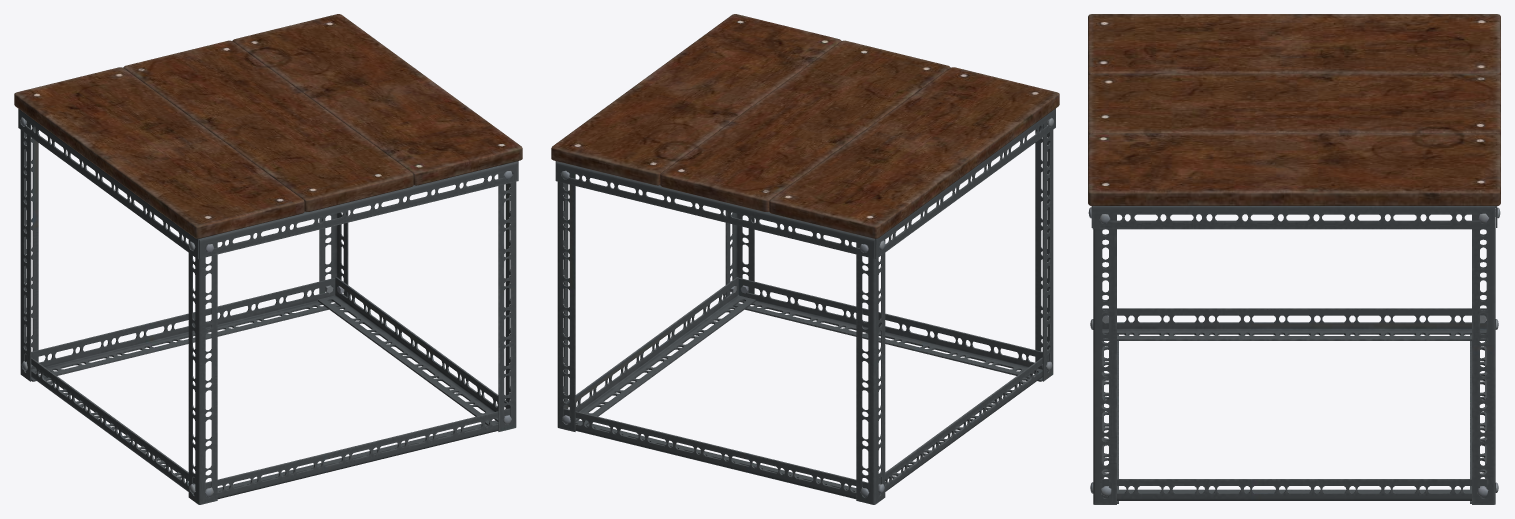
The model's file is ph_industrial_coffee_table.glb.
The picture shows the model from 3 angles, left to right: view 1: azimuth 30°, elevation 25°; view 2: azimuth 150°, elevation 25°; view 3: azimuth 270°, elevation 25°; orthographic projection. The views are drawn at different scales.
Visible parts, largest first — view 1: ph_industrial_coffee_table; view 2: ph_industrial_coffee_table; view 3: ph_industrial_coffee_table.
Part boxes in pixels (x1,y1,x2,y2): ph_industrial_coffee_table: [14, 14, 522, 504]; ph_industrial_coffee_table: [551, 14, 1059, 504]; ph_industrial_coffee_table: [1088, 14, 1500, 504].
Bounding box in the file's own units: 0.7783 × 0.6384 × 0.7579.
Materials: 1 (1 with a texture image).
